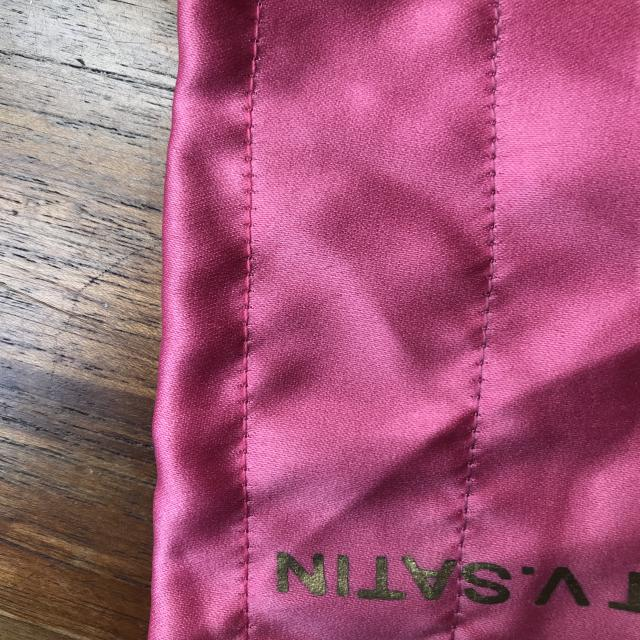good: (235, 216, 267, 337)
